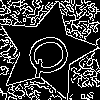Q: (21, 26, 82, 82)
